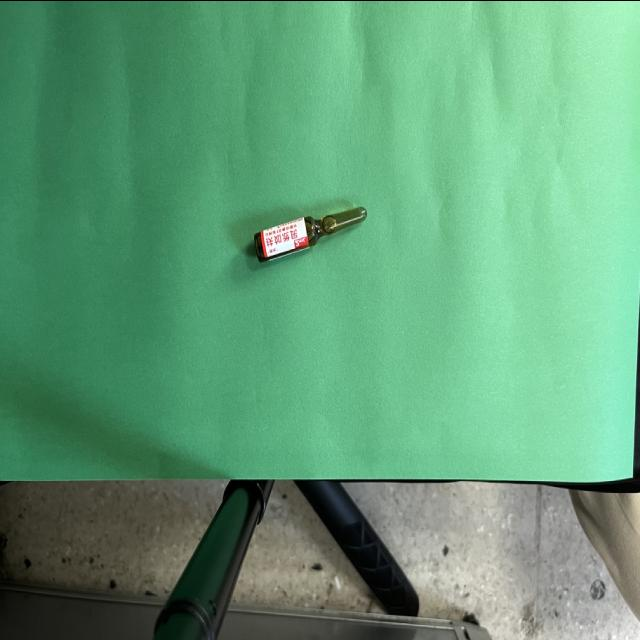Ampoules: (254, 205, 367, 261)
